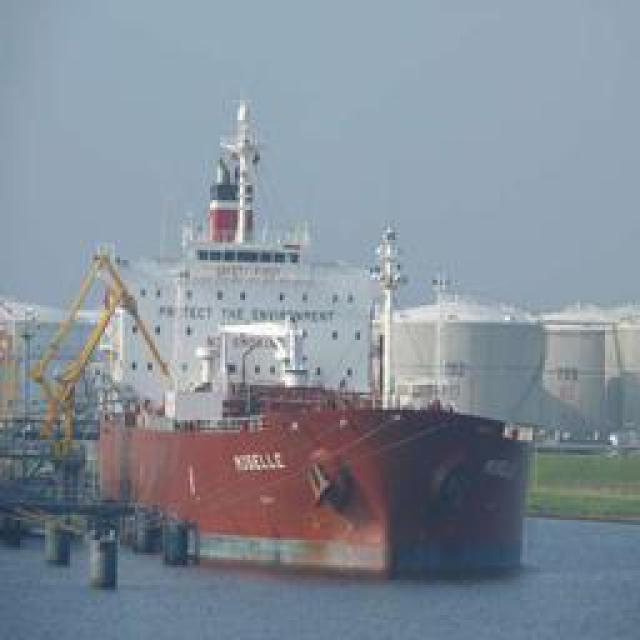Ship: (94, 346, 570, 579)
